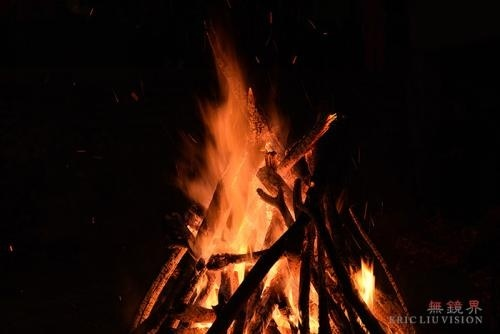fire: (173, 31, 373, 333)
